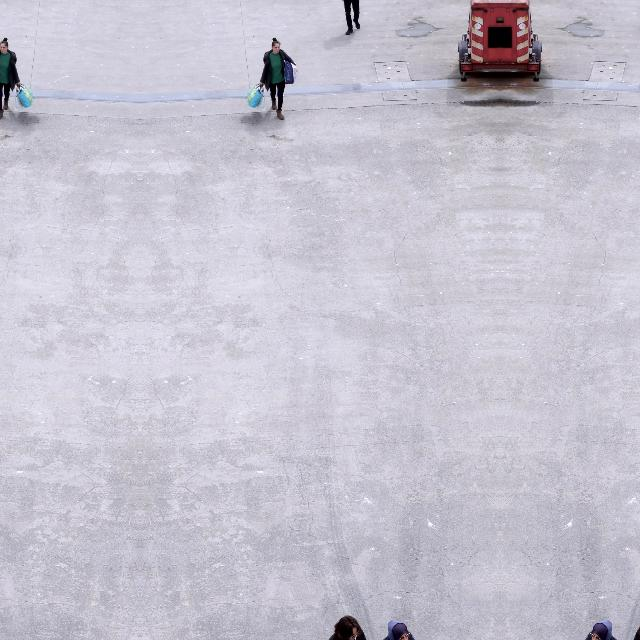person: (259, 38, 297, 120), (0, 37, 21, 120), (328, 615, 367, 640), (342, 1, 362, 36), (383, 620, 415, 640), (585, 620, 617, 640), (632, 615, 640, 640), (638, 0, 640, 35)
